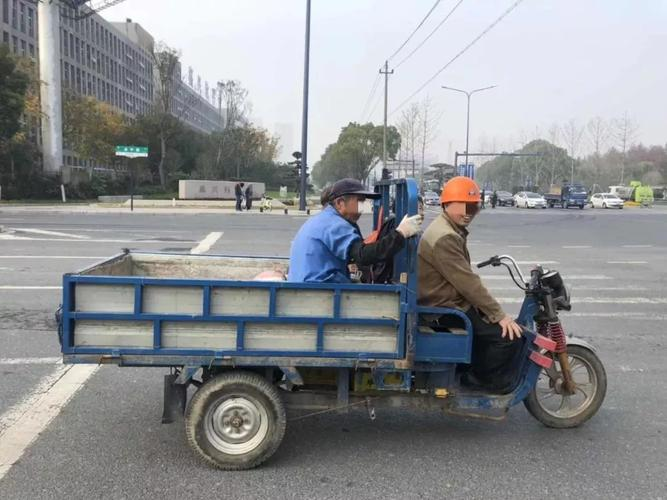driver: (404, 171, 534, 409)
overloading: (42, 118, 641, 469)
passenger: (283, 157, 383, 290)
